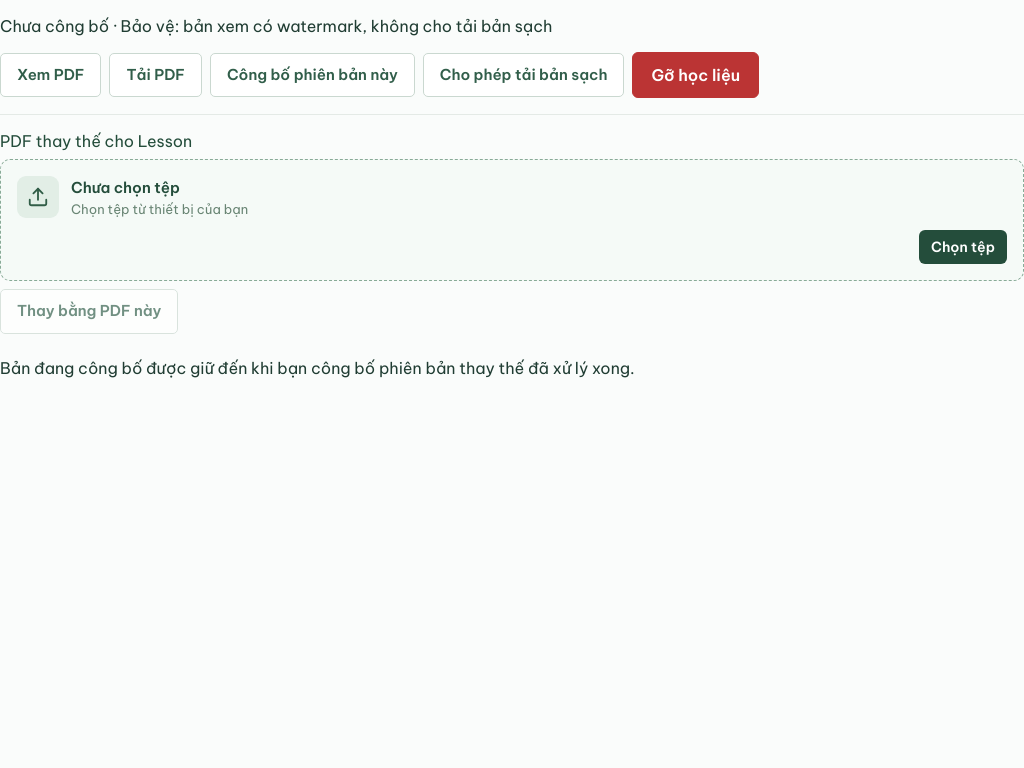
cancels removal with Escape and restores focus without removing anything
Click the button "Gỡ học liệu": (696, 75) [632,52,759,98]
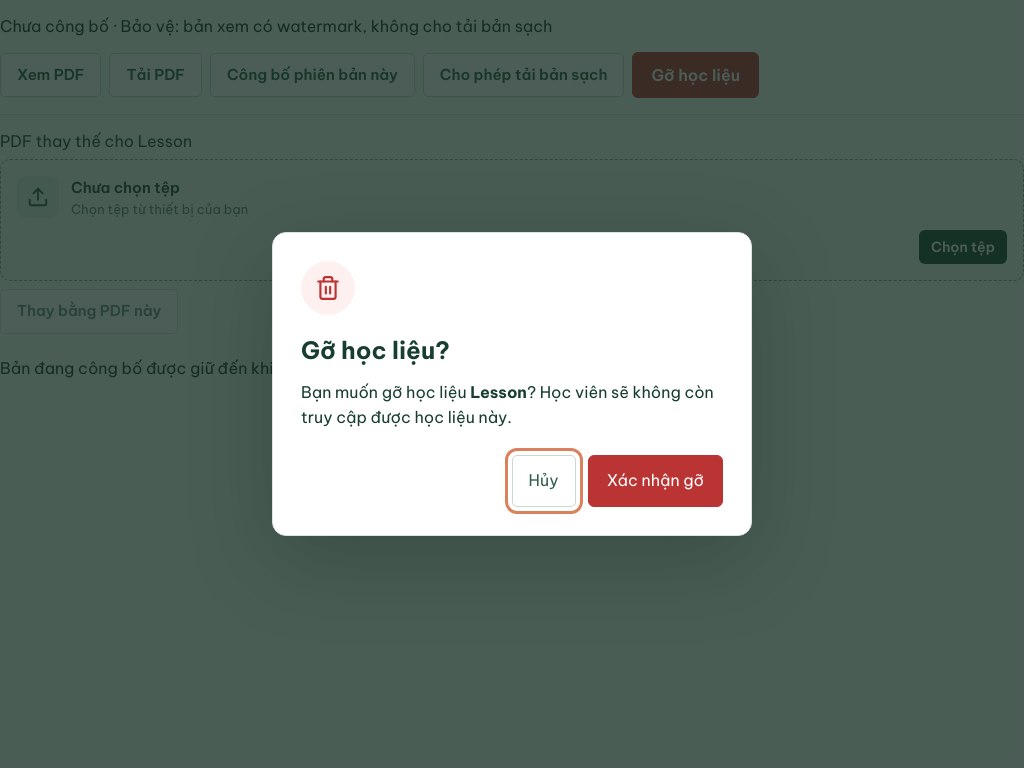
Press Escape
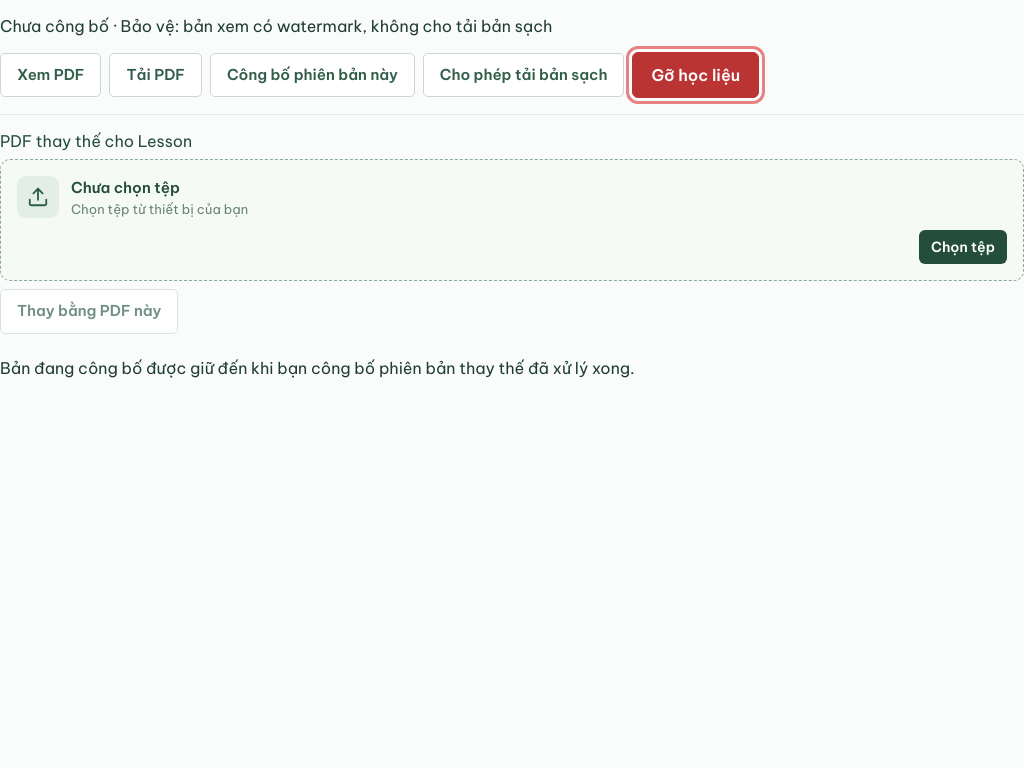
Expected: the dialog is gone
